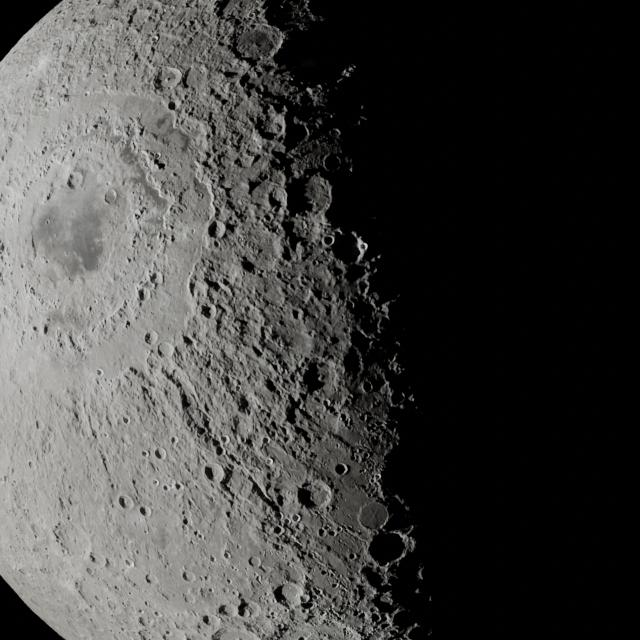crater: (278, 582, 304, 605), (204, 462, 224, 483), (241, 600, 262, 619), (286, 564, 305, 583), (323, 153, 342, 172), (66, 170, 84, 189), (157, 341, 174, 358), (200, 302, 216, 320), (218, 603, 236, 618), (118, 494, 134, 510), (334, 462, 349, 477), (144, 330, 158, 345), (104, 189, 117, 204), (361, 379, 374, 394), (138, 504, 151, 518), (138, 287, 151, 301), (322, 234, 336, 247), (149, 270, 162, 284), (249, 555, 261, 568), (182, 570, 195, 582), (184, 592, 197, 604), (324, 526, 337, 538), (154, 448, 166, 460), (272, 524, 284, 536), (311, 586, 323, 598), (340, 412, 351, 425), (318, 526, 328, 538), (146, 573, 156, 585), (102, 557, 112, 569), (212, 238, 222, 250), (214, 444, 224, 456), (124, 558, 134, 569), (291, 513, 301, 524), (234, 433, 244, 444), (261, 435, 270, 447), (88, 552, 97, 564), (41, 323, 50, 335), (86, 566, 96, 576), (194, 530, 204, 540), (34, 419, 42, 431), (170, 436, 179, 446), (221, 434, 230, 444), (174, 482, 183, 492), (348, 551, 357, 561), (95, 368, 104, 377), (223, 550, 231, 560), (266, 457, 274, 467), (182, 516, 190, 526), (29, 286, 37, 296), (122, 416, 130, 425), (253, 571, 261, 580), (209, 554, 217, 563), (155, 610, 163, 619), (141, 450, 149, 458), (207, 586, 215, 594), (27, 460, 34, 469), (226, 576, 233, 585), (152, 479, 159, 487), (45, 218, 51, 226), (190, 227, 196, 235)
rock: (357, 312, 383, 338), (356, 278, 371, 296), (265, 376, 279, 394), (290, 306, 304, 322)
